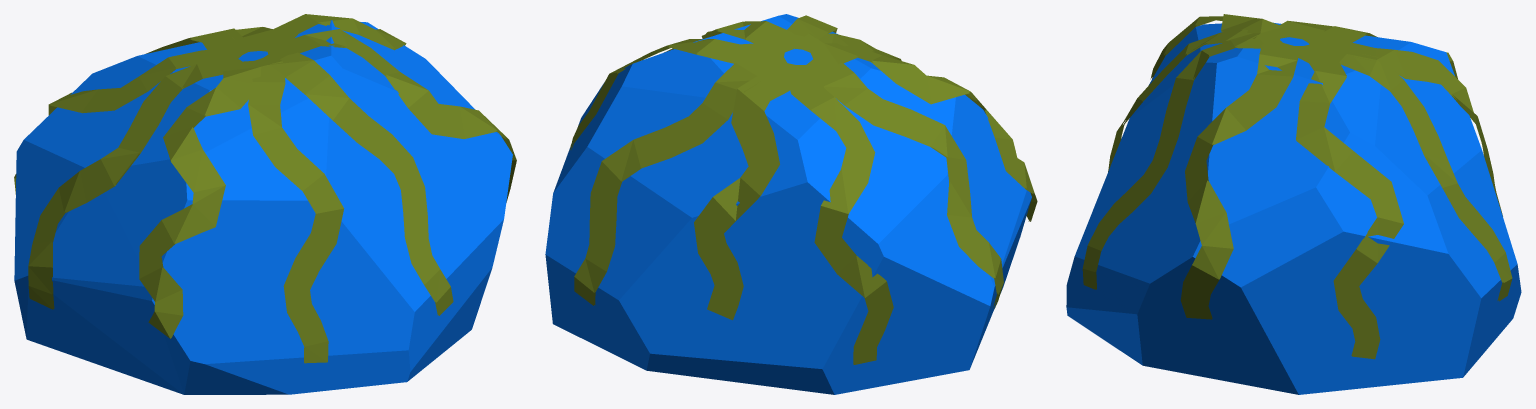
The model's file is KelpBoulder_Split.fbx.
3 views of the same model, side by side, from view 1: azimuth 30°, elevation 25°; view 2: azimuth 150°, elevation 25°; view 3: azimuth 270°, elevation 25° (orthographic). The views are drawn at different scales.
Visible parts, largest first — view 1: KelpBoulder_PieceA, KelpBoulder_PieceB, KelpBoulder_Kelp_L, KelpBoulder_Kelp_R; view 2: KelpBoulder_PieceA, KelpBoulder_PieceB, KelpBoulder_Kelp_L, KelpBoulder_Kelp_R; view 3: KelpBoulder_PieceB, KelpBoulder_Kelp_R, KelpBoulder_Kelp_L, KelpBoulder_PieceA.
Part boxes in pixels (x1,y1,x2,y2): KelpBoulder_PieceA: (14, 42, 365, 394); KelpBoulder_PieceB: (246, 20, 512, 386); KelpBoulder_Kelp_L: (14, 33, 344, 363); KelpBoulder_Kelp_R: (214, 14, 516, 315); KelpBoulder_PieceA: (687, 50, 1031, 394); KelpBoulder_PieceB: (545, 14, 837, 376); KelpBoulder_Kelp_L: (697, 29, 1037, 364); KelpBoulder_Kelp_R: (569, 15, 837, 305); KelpBoulder_PieceB: (1066, 48, 1521, 394); KelpBoulder_Kelp_R: (1082, 37, 1512, 359); KelpBoulder_Kelp_L: (1108, 14, 1502, 216); KelpBoulder_PieceA: (1116, 22, 1477, 152).
Bounding box in the file's own units: 15.3 × 8.87 × 13.75.
